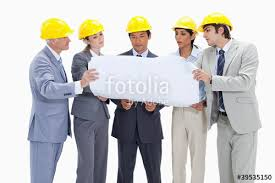Person_wearing_helmet: (124, 14, 154, 39), (169, 15, 196, 37), (81, 16, 104, 38)
